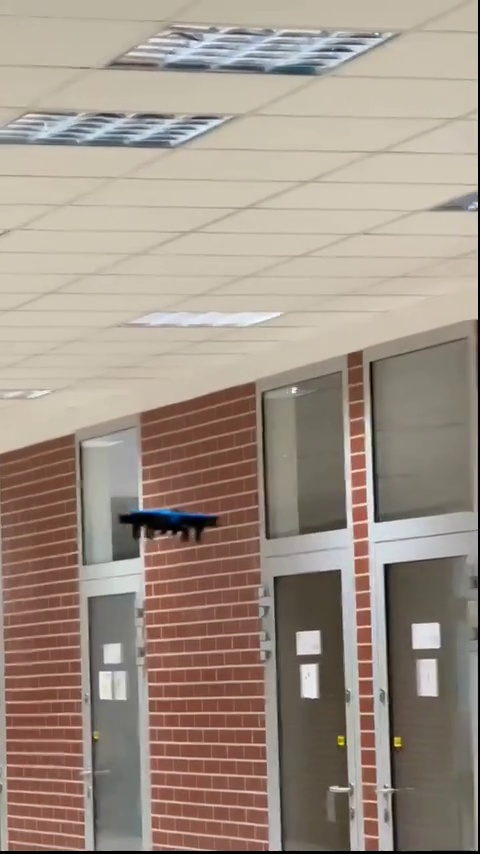drone: (109, 505, 221, 547)
